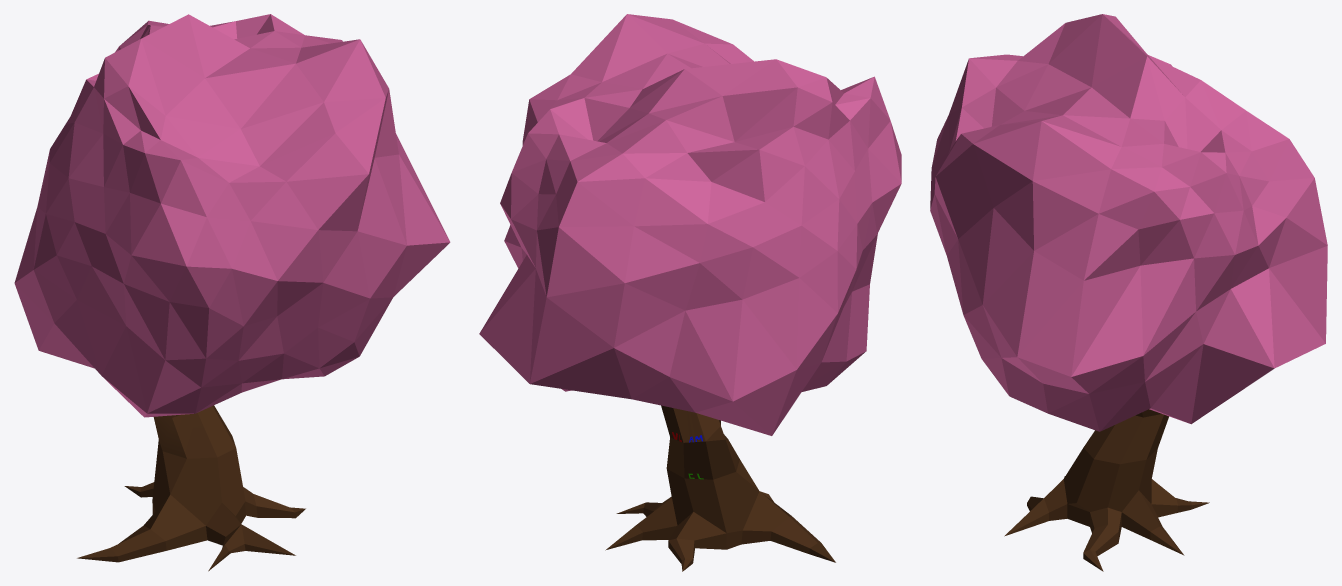
Rendered from initials_tree.fbx.
3 renders of one model, left to right at view 1: azimuth 30°, elevation 25°; view 2: azimuth 150°, elevation 25°; view 3: azimuth 270°, elevation 25°, orthographic. The views are drawn at different scales.
Visible parts, largest first — view 1: Icosphere.108, Node.018; view 2: Icosphere.108, Node.018; view 3: Icosphere.108, Node.018.
Part boxes in pixels (bbox=[...]): Icosphere.108: bbox=[14, 14, 450, 417]; Node.018: bbox=[77, 405, 305, 571]; Icosphere.108: bbox=[479, 14, 901, 435]; Node.018: bbox=[605, 405, 835, 571]; Icosphere.108: bbox=[930, 14, 1327, 431]; Node.018: bbox=[1004, 409, 1209, 571].
Size of the model in its own units: 5825 by 7884 by 5885.
